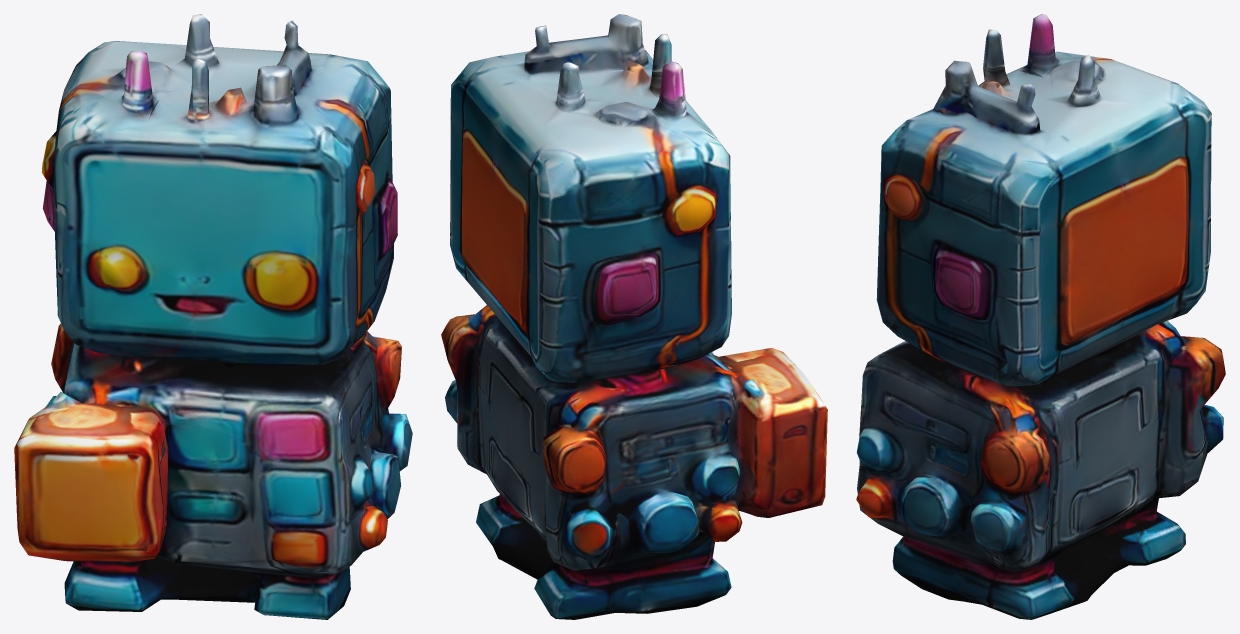
The model's file is robot.glb.
The picture shows the model from 3 angles, left to right: view 1: azimuth 30°, elevation 25°; view 2: azimuth 150°, elevation 25°; view 3: azimuth 270°, elevation 25°; orthographic projection. The views are drawn at different scales.
Visible parts, largest first — view 1: ProcessedMeshNode_LOD1; view 2: ProcessedMeshNode_LOD1; view 3: ProcessedMeshNode_LOD1.
Boxes of the visible parts, x1=… form: ProcessedMeshNode_LOD1: x1=14, y1=14, x2=412, y2=619; ProcessedMeshNode_LOD1: x1=441, y1=14, x2=827, y2=619; ProcessedMeshNode_LOD1: x1=856, y1=14, x2=1225, y2=619.
Bounding box in the file's own units: 0.6685 × 0.8895 × 0.5769.
1 material, 1 textured.
